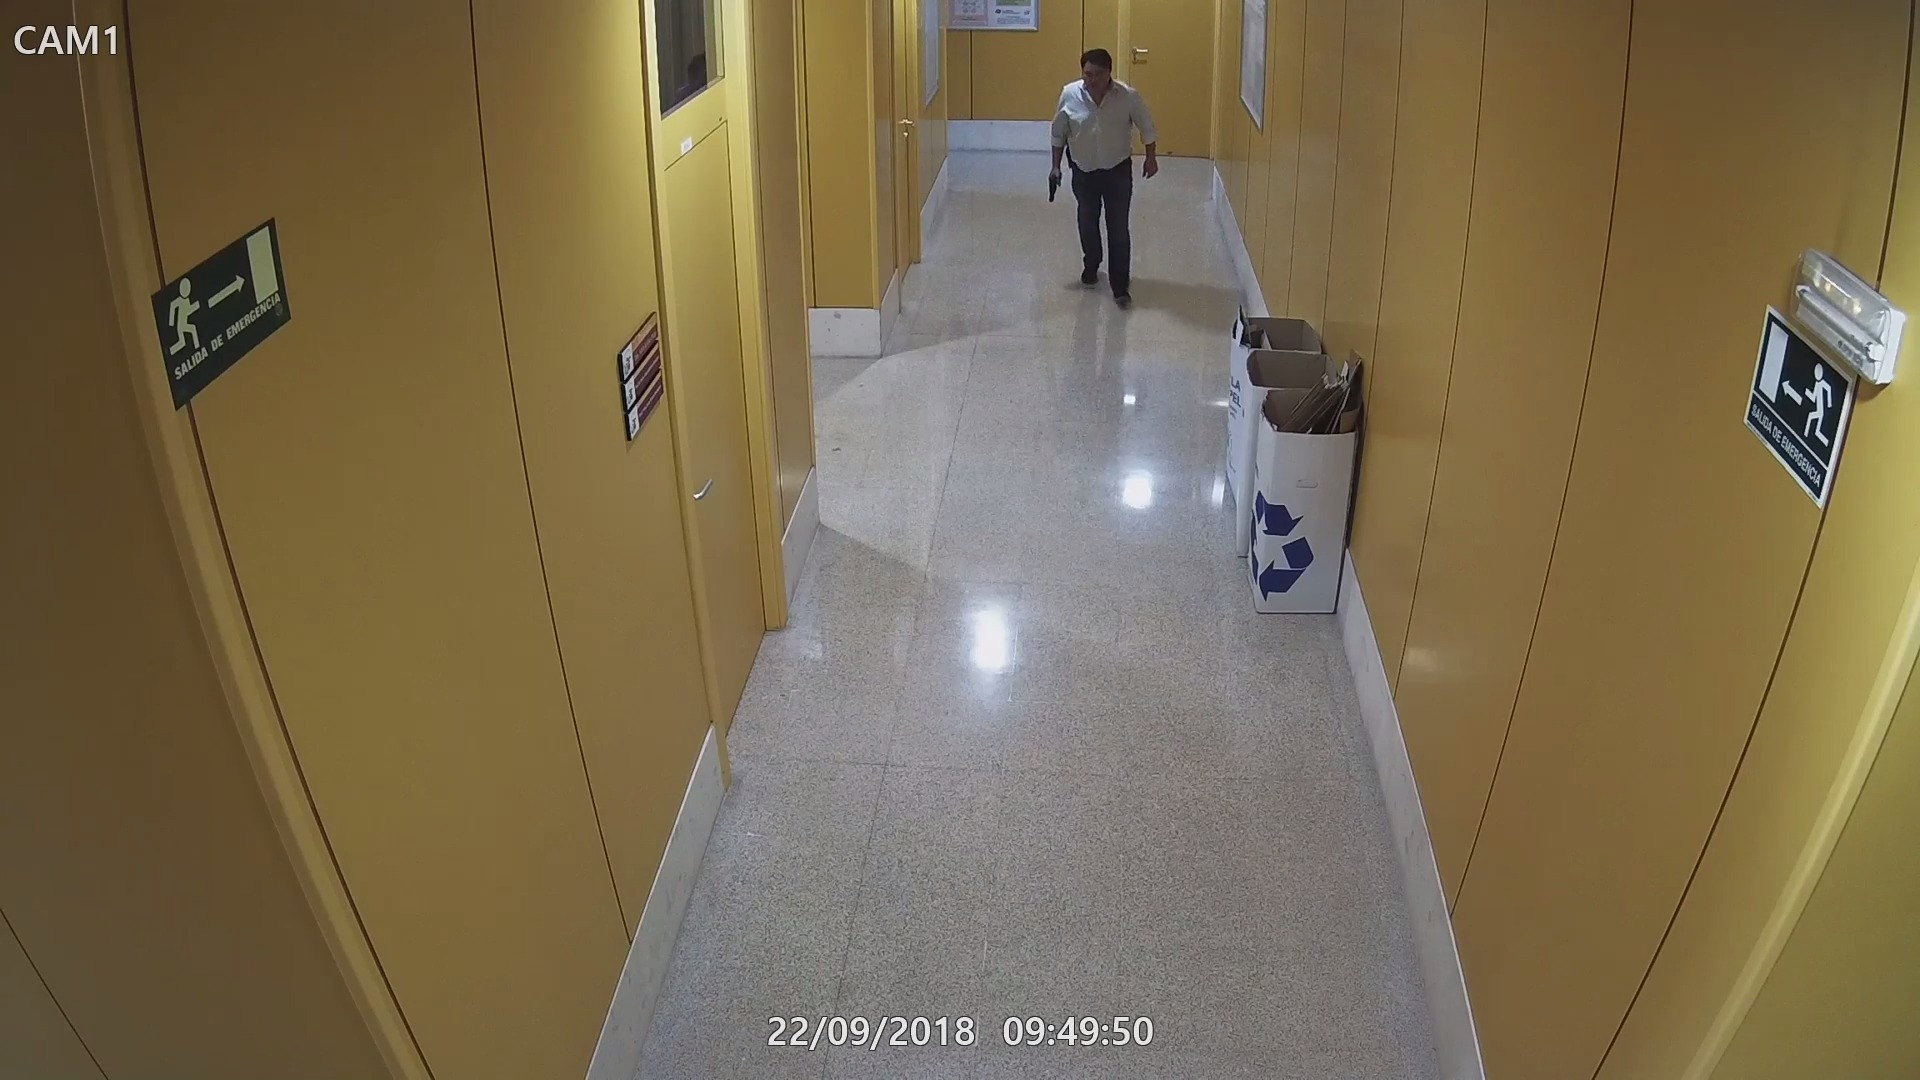Handgun: (1040, 165, 1067, 204)
